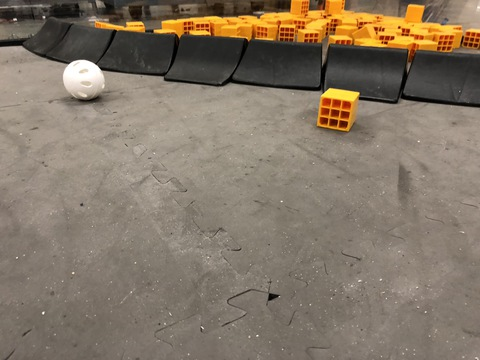ball: (58, 58, 114, 105)
block: (312, 84, 367, 141)
